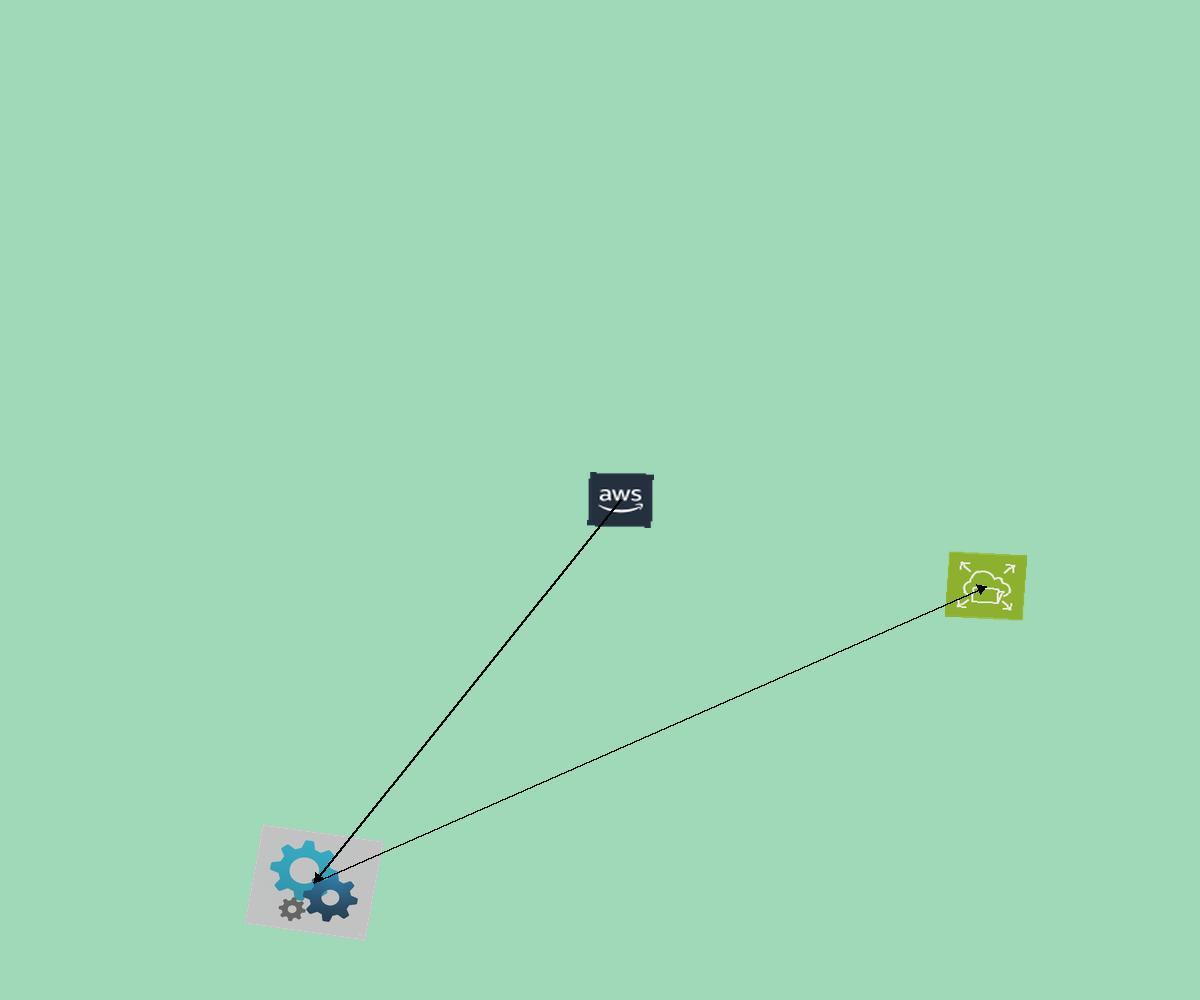AWS-Cloud-logo: (587, 472, 654, 528)
AWS-EFS: (944, 551, 1028, 621)
Azure_api: (244, 824, 384, 941)
